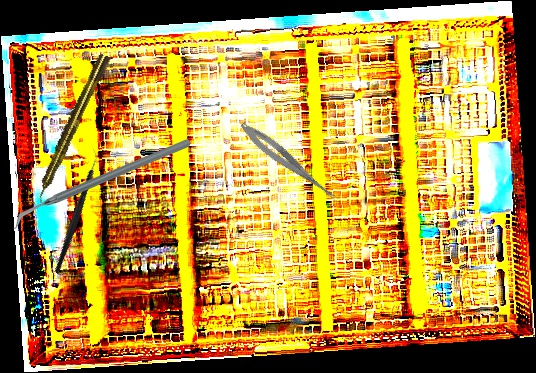Chopper: (12, 138, 191, 229), (15, 146, 135, 276)
Handpiece: (30, 52, 113, 205)
Micro Scissor: (235, 118, 346, 207)
